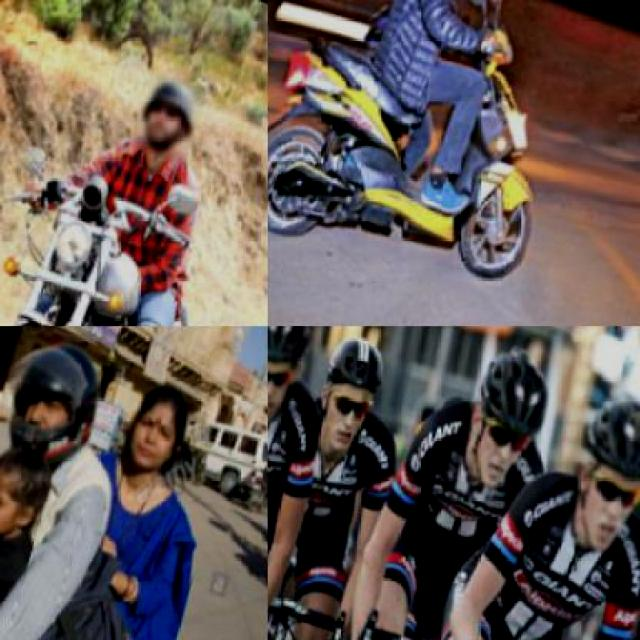With Helmet: (443, 327, 574, 516), (546, 352, 639, 562), (0, 326, 118, 475), (298, 326, 400, 469), (128, 64, 208, 164), (268, 326, 330, 440)
Without Helmet: (115, 362, 200, 488)
